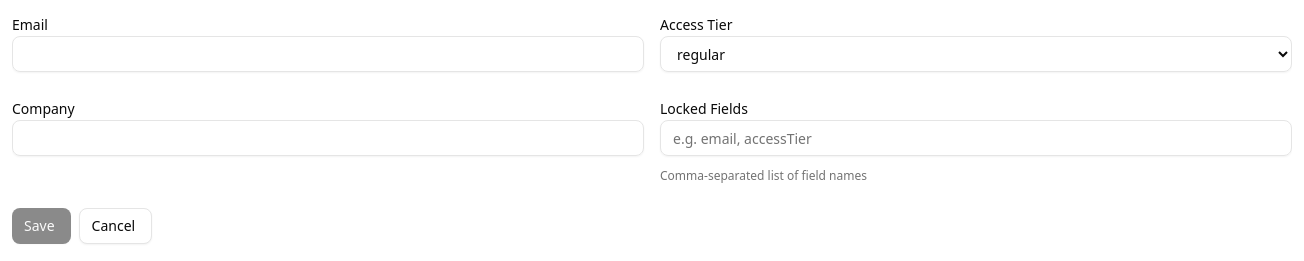
Test case: WhitelistForm › submit button disabled state › disables the submit button again when the email is cleared
Step 1. Type "test@example.com" into the field labelled "Email" → (328, 54), box top-left (12, 36), bottom-right (644, 72)
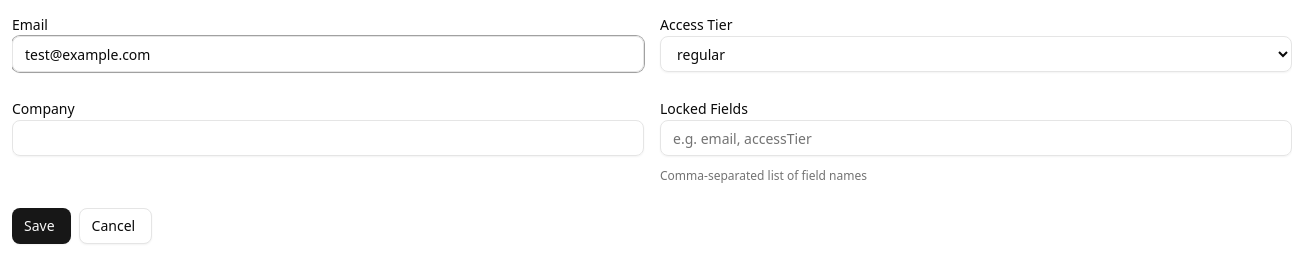
Step 2. Clear the field labelled "Email" → (328, 54), box top-left (12, 36), bottom-right (644, 72)
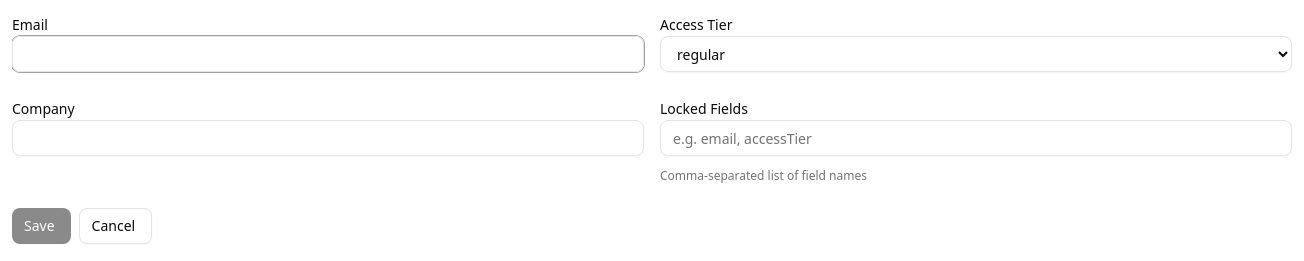
Expected: the button "Save" is disabled, top-left (12, 208), bottom-right (71, 244)
